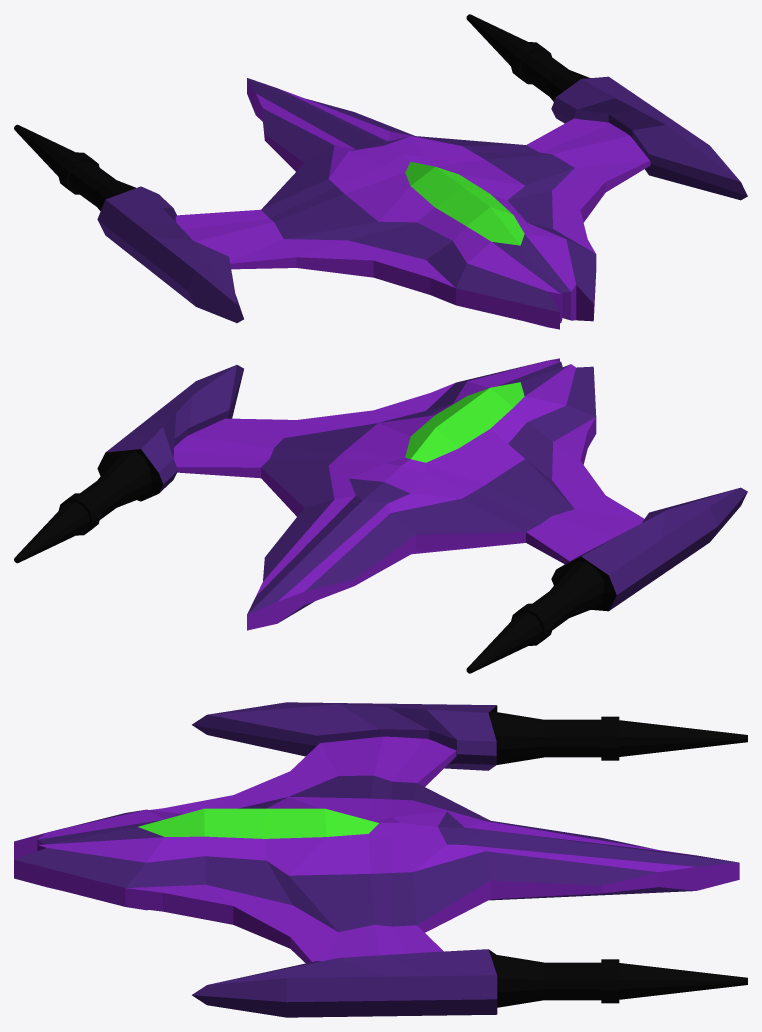
The model's file is NaveEnemigaAlien.fbx.
3 renders of one model, top to bottom at view 1: azimuth 30°, elevation 25°; view 2: azimuth 150°, elevation 25°; view 3: azimuth 270°, elevation 25°, orthographic. The views are drawn at different scales.
Parts seen in each view (by area): view 1: Cube; view 2: Cube; view 3: Cube.
Boxes of the visible parts, x1,y1,x2,y2 form: Cube: [14, 14, 747, 329]; Cube: [14, 358, 747, 673]; Cube: [14, 702, 747, 1017].
Bounding box in the file's own units: 306 × 45.27 × 334.
